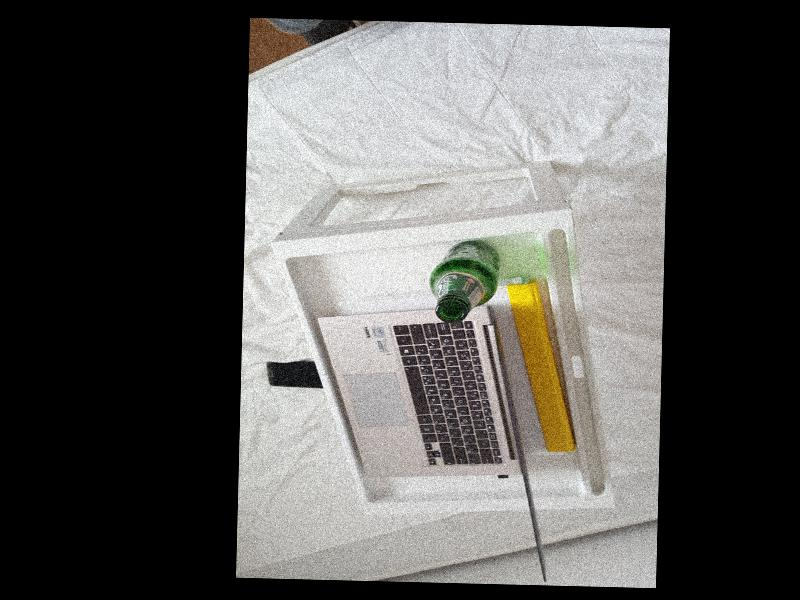Beer: (428, 238, 500, 322)
